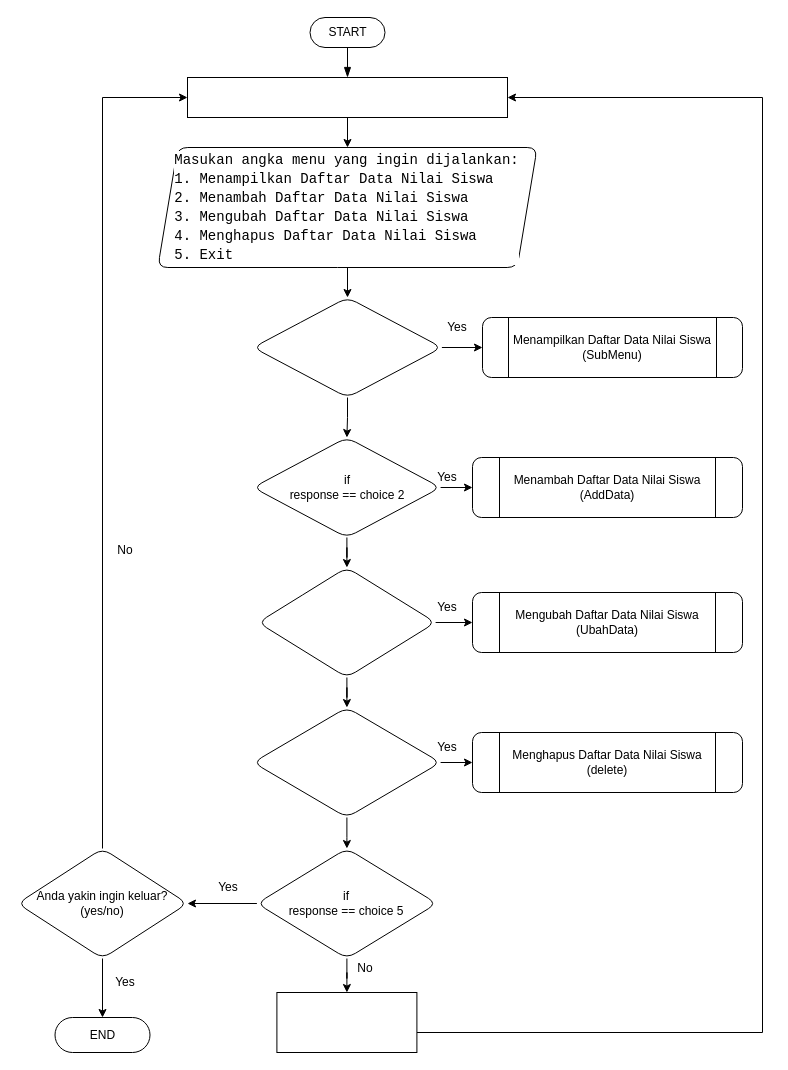
Some shapes in this 788 by 1070 pixel diagram are drawn without their labels. Each missing label, with the centre of its shape:
"response" is not valid choice: (346,1022)
if response == choice 1: (347,347)
if response == choice 3: (346,622)
if response == choice 4: (346,762)
Report Data Kelulusan di SMP Maju Jaya (Main): (347,97)
